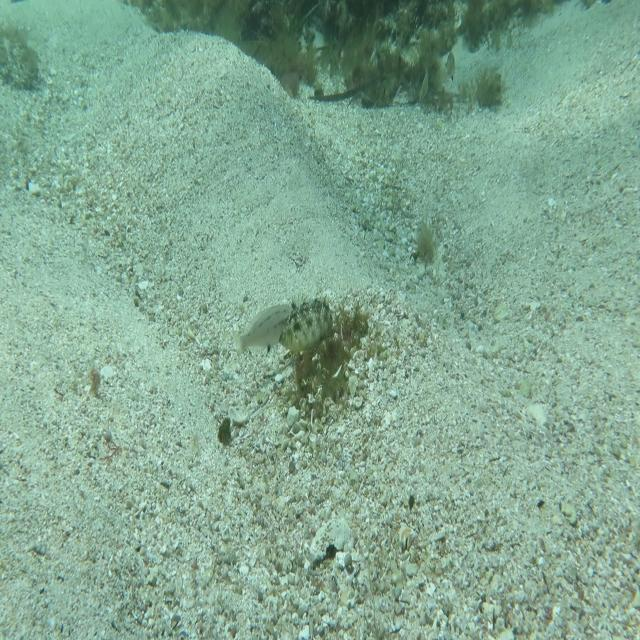DAN_CIRC: (278, 289, 336, 357)
female: (233, 300, 295, 361)
nest: (283, 302, 375, 420)
vegetation: (121, 0, 542, 45), (245, 41, 453, 88), (411, 225, 436, 270), (216, 422, 237, 454)
